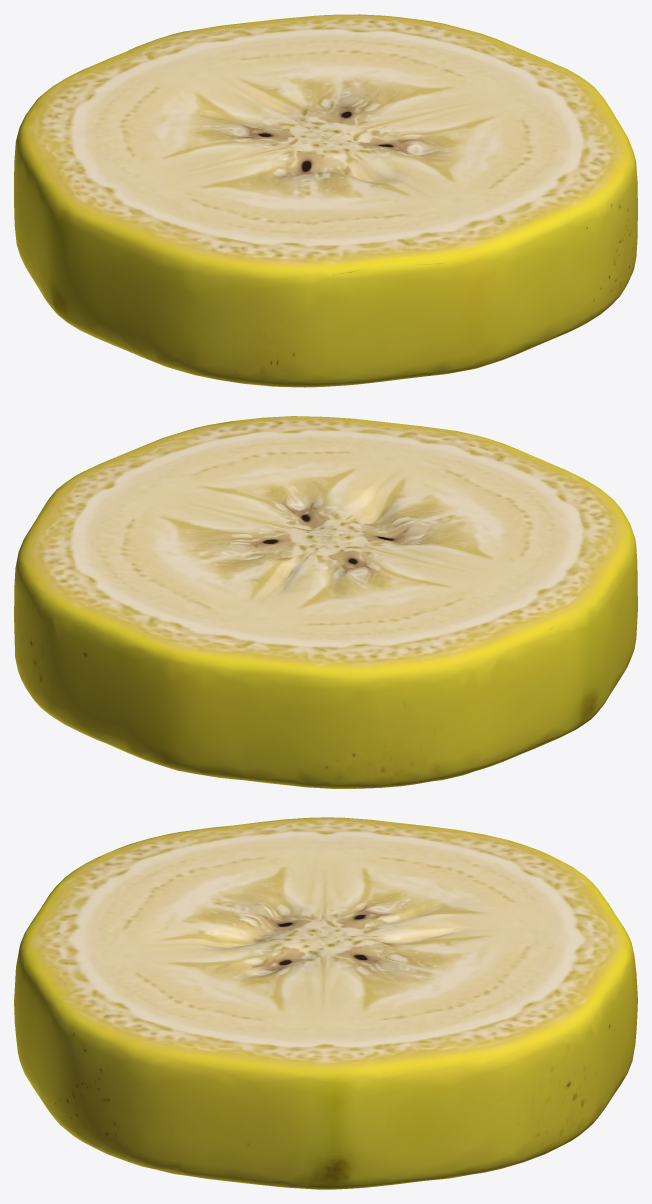
File: banana.glb
3 renders of one model, top to bottom at view 1: azimuth 30°, elevation 25°; view 2: azimuth 150°, elevation 25°; view 3: azimuth 270°, elevation 25°, orthographic.
Parts seen in each view (by area): view 1: Mesh10; view 2: Mesh10; view 3: Mesh10.
Boxes of the visible parts, left/top/right/bottom form: Mesh10: left=14, top=14, right=637, bottom=387; Mesh10: left=14, top=416, right=637, bottom=788; Mesh10: left=14, top=817, right=637, bottom=1189.
Size of the model in its own units: 1.91 by 0.4387 by 1.91.
1 material, 1 textured.
